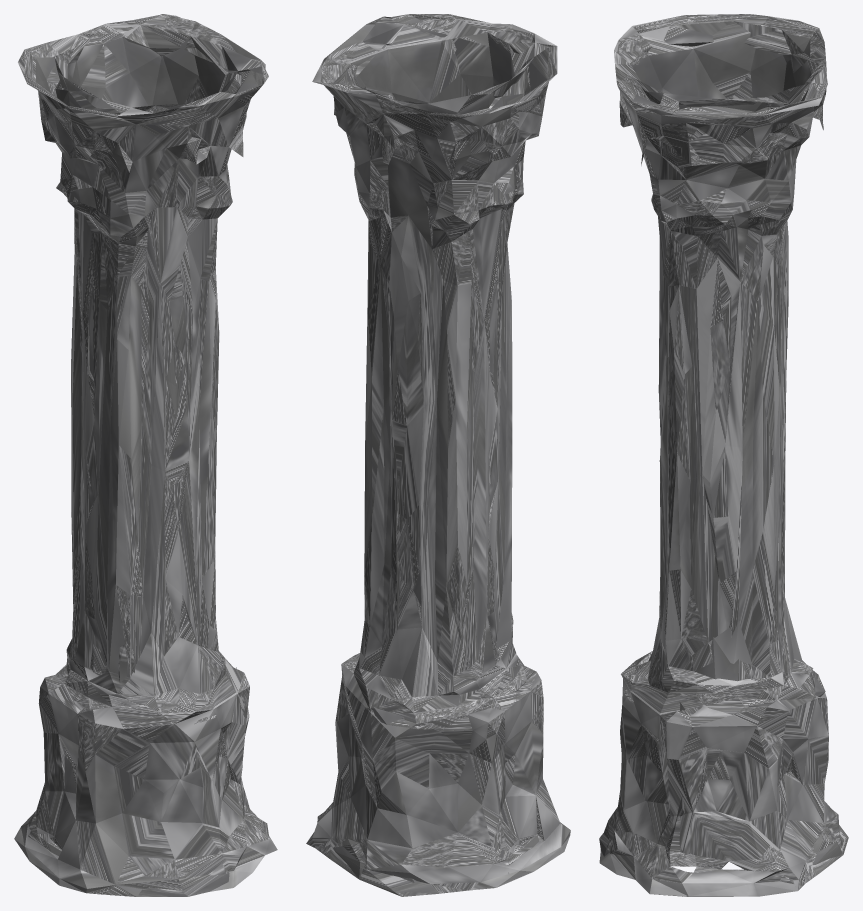
Rendered from gothic_pillar.glb.
3 renders of one model, left to right at view 1: azimuth 30°, elevation 25°; view 2: azimuth 150°, elevation 25°; view 3: azimuth 270°, elevation 25°, orthographic.
Visible parts, largest first — view 1: gothic_pillar; view 2: gothic_pillar; view 3: gothic_pillar.
Part boxes in pixels (x1,y1,x2,y2): gothic_pillar: [14, 14, 277, 896]; gothic_pillar: [306, 14, 570, 896]; gothic_pillar: [599, 14, 848, 896].
Size of the model in its own units: 0.6736 by 2.41 by 0.6885.
Materials: 1 (1 with a texture image).
